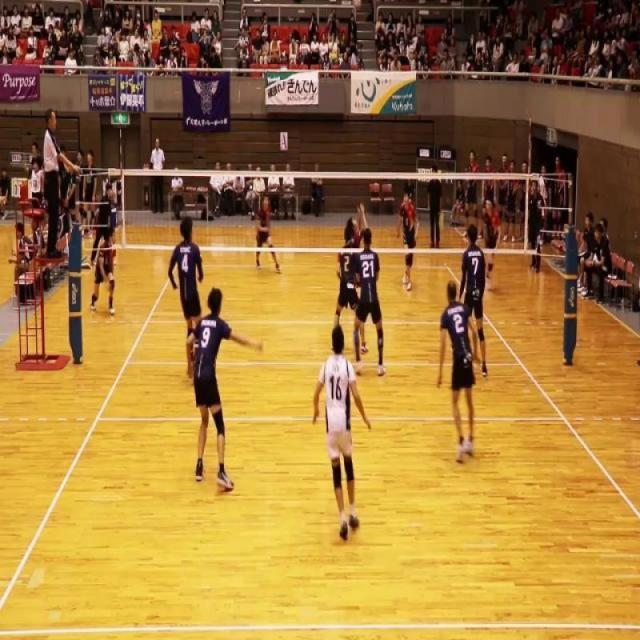volleyball: (352, 0, 362, 8)
